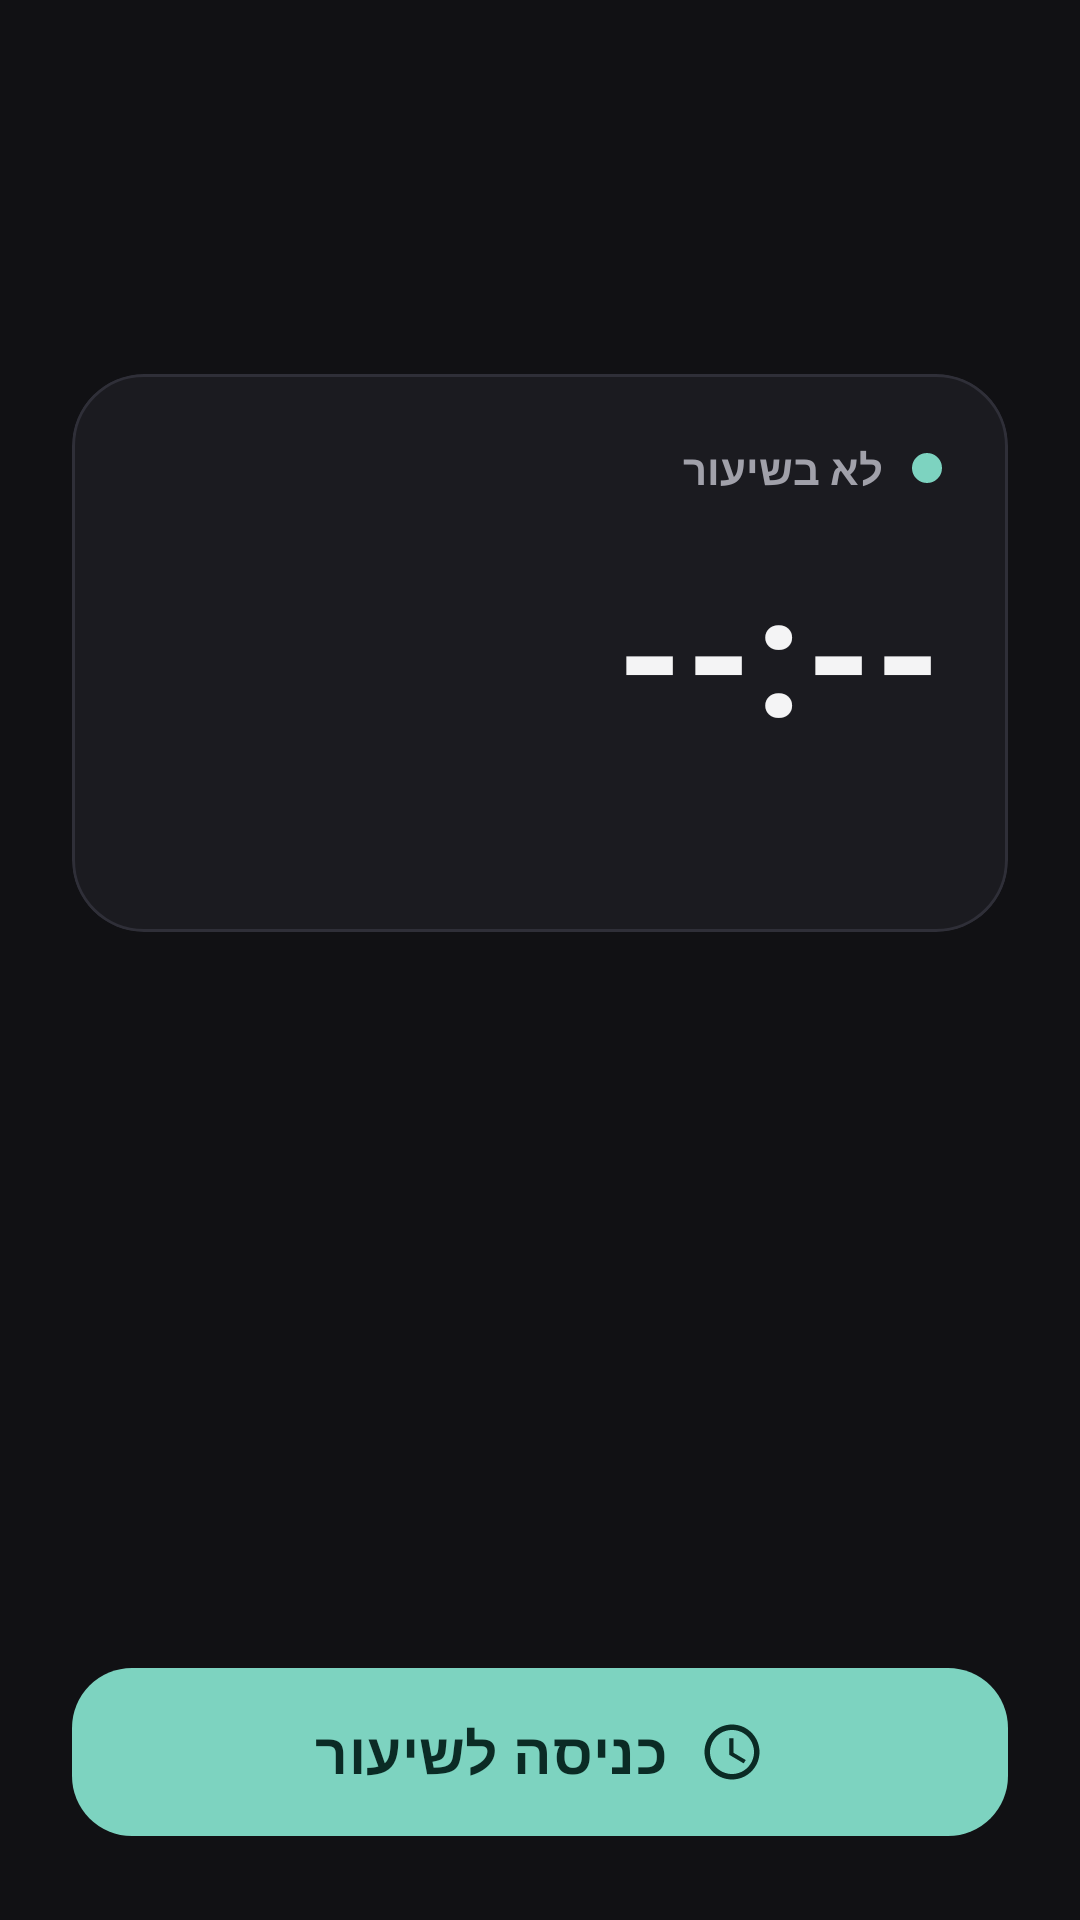

Where icons sit on this 1080px×1920px app screen, as (x1, y1, x2, y2):
status dot: (912, 453, 942, 483)
